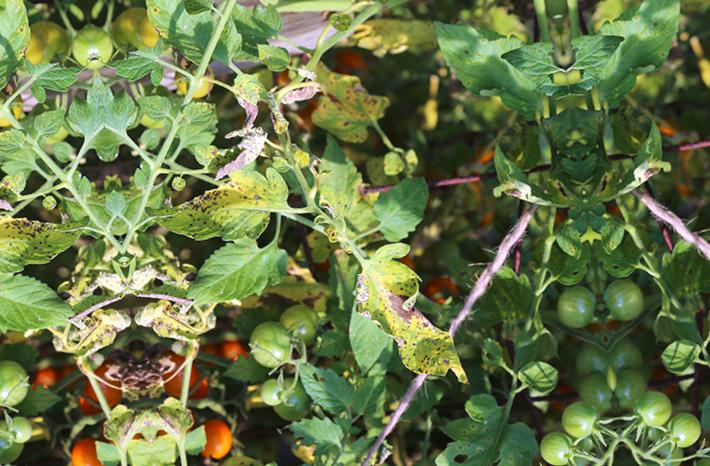Tomato Early blight leaf: (344, 232, 470, 402), (433, 12, 545, 124), (155, 166, 293, 253), (415, 389, 545, 466), (309, 60, 388, 147), (137, 0, 213, 84), (313, 133, 368, 226)
Tomato leaf: (179, 230, 292, 313)
